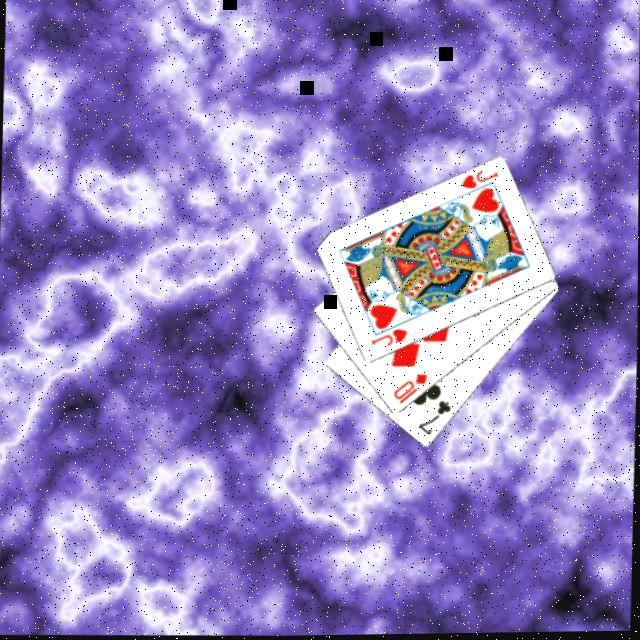10D: (389, 372, 430, 409)
7C: (414, 399, 453, 440)
JH: (457, 169, 499, 194), (367, 327, 409, 351)
